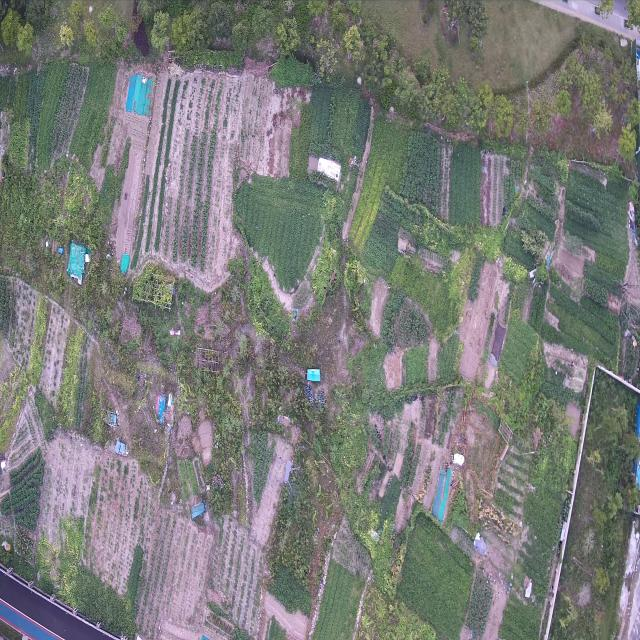UAV: (277, 451, 298, 494)
